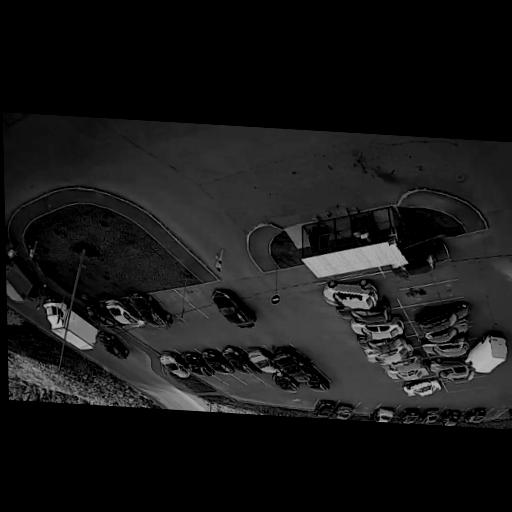busy: (37, 298, 99, 344), (389, 233, 451, 277), (6, 256, 48, 309), (323, 278, 383, 313), (209, 288, 254, 328), (412, 302, 473, 331), (470, 331, 512, 372), (127, 291, 172, 329), (272, 344, 314, 381), (350, 319, 405, 339), (93, 331, 132, 359), (223, 346, 258, 375), (247, 344, 280, 374), (104, 300, 140, 327), (418, 324, 465, 344), (159, 351, 193, 378), (83, 304, 118, 328), (367, 344, 413, 362), (435, 362, 476, 382), (359, 334, 405, 351), (421, 340, 467, 357), (344, 307, 392, 323), (183, 352, 213, 376), (406, 377, 440, 398), (201, 349, 230, 372), (380, 356, 421, 371), (271, 373, 300, 394), (392, 368, 429, 381), (372, 406, 397, 423), (398, 407, 422, 424), (420, 407, 443, 424), (464, 408, 487, 425), (315, 400, 337, 416), (333, 403, 353, 419), (442, 409, 462, 425), (507, 406, 512, 421)
free: (398, 266, 439, 283), (408, 286, 442, 305), (164, 297, 188, 313), (189, 292, 211, 309), (485, 408, 503, 421), (202, 376, 220, 387), (261, 374, 275, 384), (356, 405, 370, 413), (243, 376, 256, 383), (222, 375, 235, 382), (301, 400, 314, 407)
